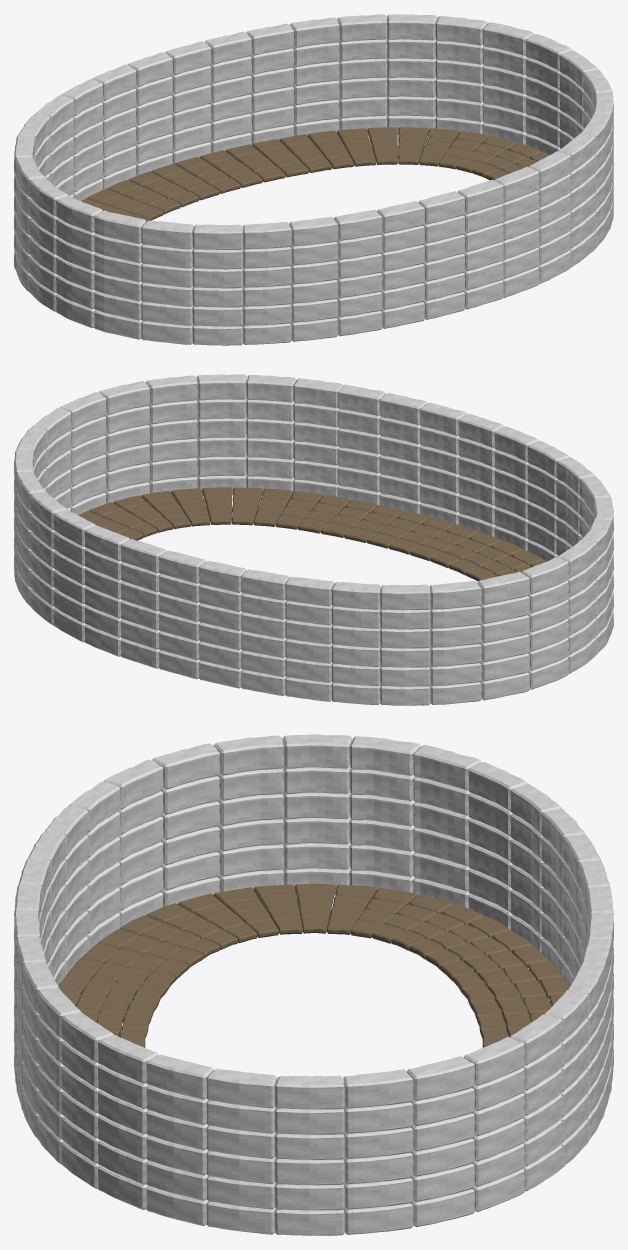
The model's file is CircularRoom.2024.08.30.fbx.
3 renders of one model, top to bottom at view 1: azimuth 30°, elevation 25°; view 2: azimuth 150°, elevation 25°; view 3: azimuth 270°, elevation 25°, orthographic. The views are drawn at different scales.
Parts seen in each view (by area): view 1: Cube.193, Cube.192, Cube.209, Cube.194, Cube.191, Cube.210, Cube.208, Cube.190, Cube.207, Cube.189, Cube.211, Cube.188 (+154 smaller); view 2: Cube.199, Cube.217, Cube.200, Cube.198, Cube.216, Cube.201, Cube.218, Cube.202, Cube.215, Cube.219, Cube.203, Cube.204 (+154 smaller); view 3: Cube.212, Cube.213, Cube.214, Cube.196, Cube.195, Cube.197, Cube.211, Cube.215, Cube.194, Cube.198, Cube.210, Cube.145 (+115 smaller).
Part boxes in pixels (x1,y1,x2,y2): Cube.193: [141, 220, 193, 249]; Cube.192: [192, 224, 242, 249]; Cube.209: [386, 14, 437, 40]; Cube.194: [94, 210, 146, 243]; Cube.191: [242, 222, 291, 249]; Cube.210: [435, 16, 488, 45]; Cube.208: [337, 14, 386, 41]; Cube.190: [289, 216, 338, 246]; Cube.207: [290, 17, 339, 47]; Cube.189: [334, 209, 382, 240]; Cube.211: [483, 22, 534, 55]; Cube.188: [377, 201, 424, 233]; Cube.199: [429, 581, 481, 609]; Cube.217: [196, 374, 246, 400]; Cube.200: [380, 584, 430, 609]; Cube.198: [477, 571, 529, 604]; Cube.216: [145, 375, 197, 404]; Cube.201: [331, 582, 380, 609]; Cube.218: [246, 375, 296, 402]; Cube.202: [285, 576, 334, 606]; Cube.215: [98, 381, 150, 414]; Cube.219: [293, 378, 343, 408]; Cube.203: [241, 569, 289, 600]; Cube.204: [199, 560, 246, 592]; Cube.212: [343, 1069, 413, 1108]; Cube.213: [275, 1075, 344, 1109]; Cube.214: [206, 1068, 277, 1108]; Cube.196: [282, 734, 352, 768]; Cube.195: [213, 735, 283, 775]; Cube.197: [350, 736, 420, 775]; Cube.211: [407, 1056, 475, 1100]; Cube.215: [146, 1054, 213, 1099]; Cube.194: [152, 743, 220, 789]; Cube.198: [413, 745, 481, 790]; Cube.210: [463, 1037, 524, 1085]; Cube.145: [275, 1133, 344, 1159].
Size of the model in its own units: 5543 by 1111 by 3987.
